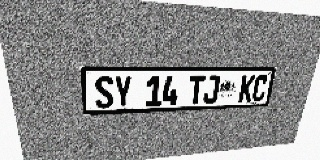1: (145, 76, 163, 106)
4: (162, 76, 179, 106)
C: (251, 75, 269, 102)
J: (203, 75, 220, 104)
K: (238, 75, 256, 102)
S: (94, 76, 114, 109)
T: (188, 75, 205, 105)
Y: (114, 76, 132, 108)
